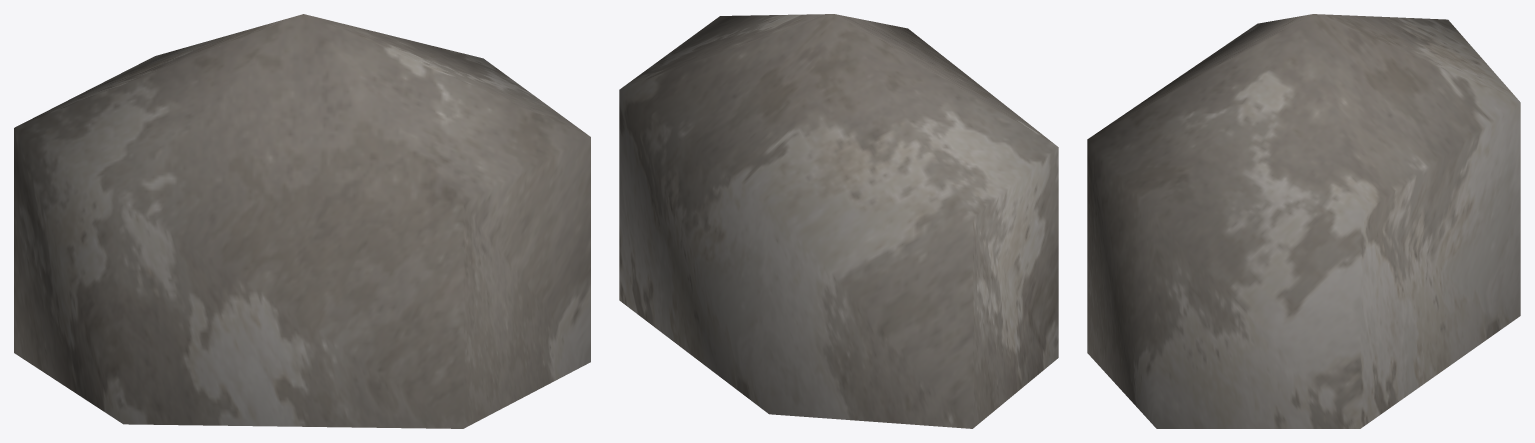
The model's file is Debris_Small.fbx.
The picture shows the model from 3 angles, left to right: view 1: azimuth 30°, elevation 25°; view 2: azimuth 150°, elevation 25°; view 3: azimuth 270°, elevation 25°; orthographic projection. The views are drawn at different scales.
Visible parts, largest first — view 1: Debris_Small; view 2: Debris_Small; view 3: Debris_Small.
Boxes of the visible parts, x1,y1,x2,y2 form: Debris_Small: [14, 14, 590, 428]; Debris_Small: [619, 14, 1058, 428]; Debris_Small: [1087, 14, 1520, 428].
Bounding box in the file's own units: 39.36 × 30 × 36.79.
